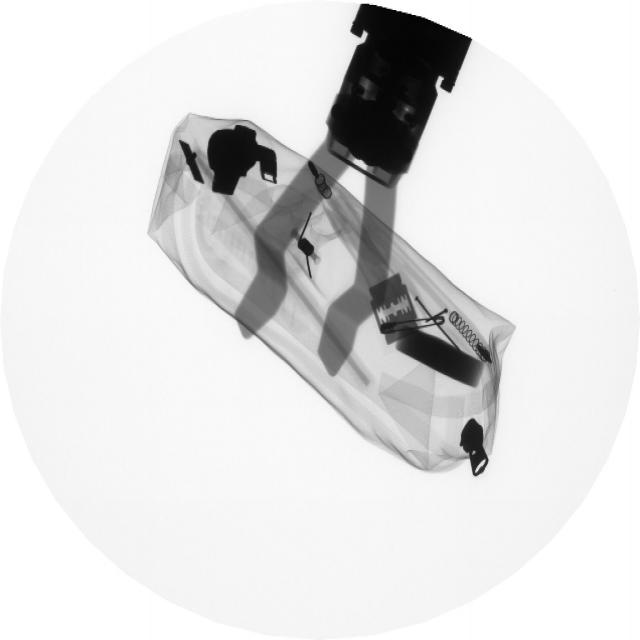BLADE: (364, 268, 422, 344)
